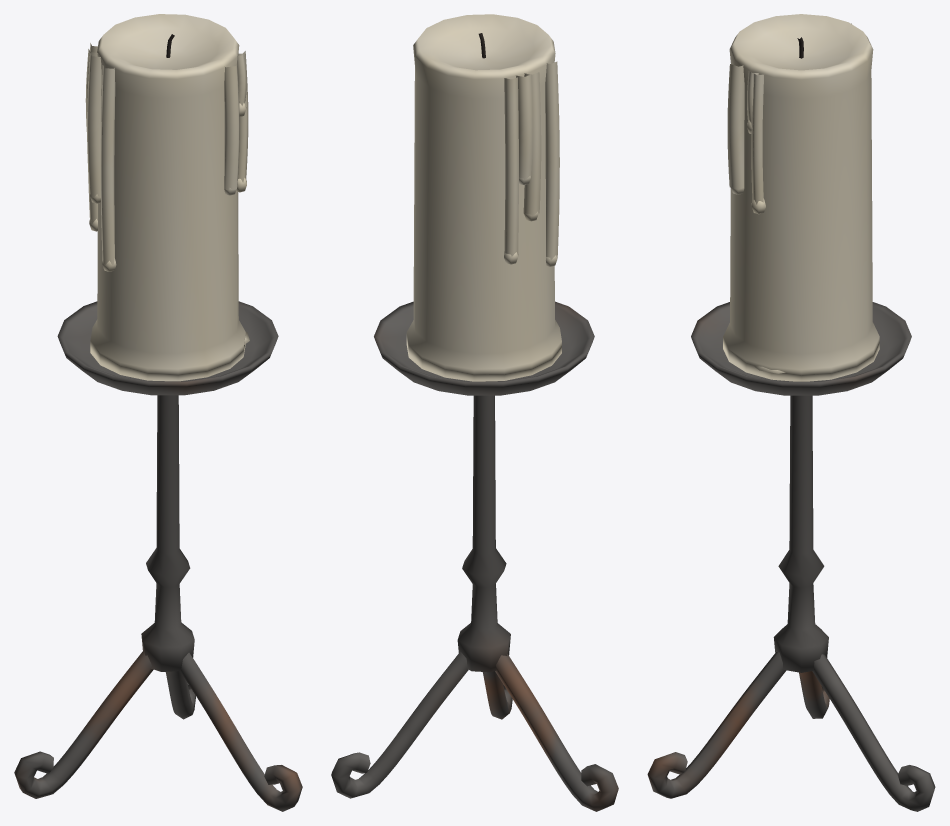
File: mech_candle_a.glb
3 renders of one model, left to right at view 1: azimuth 30°, elevation 25°; view 2: azimuth 150°, elevation 25°; view 3: azimuth 270°, elevation 25°, orthographic.
Parts seen in each view (by area): view 1: mech_candle_a_LOD0; view 2: mech_candle_a_LOD0; view 3: mech_candle_a_LOD0.
Boxes of the visible parts, bbox=[...] form: mech_candle_a_LOD0: bbox=[14, 14, 302, 811]; mech_candle_a_LOD0: bbox=[331, 14, 618, 811]; mech_candle_a_LOD0: bbox=[647, 14, 935, 811].
Size of what is drawn, in the model's own units: 0.594 by 1.77 by 0.6252.
